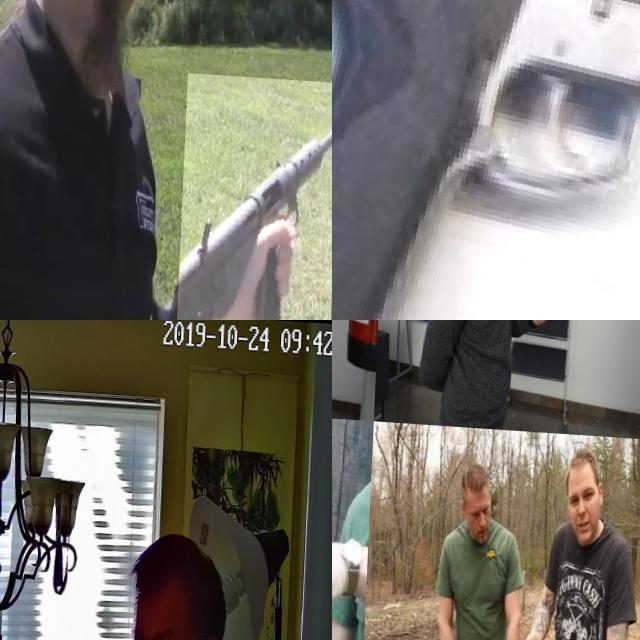-: (332, 523, 395, 621), (545, 320, 562, 350), (510, 629, 551, 640), (332, 320, 354, 334)
gun-knife-thesis - v11 Yolov5 augmented: (332, 0, 640, 320), (181, 69, 332, 320)
